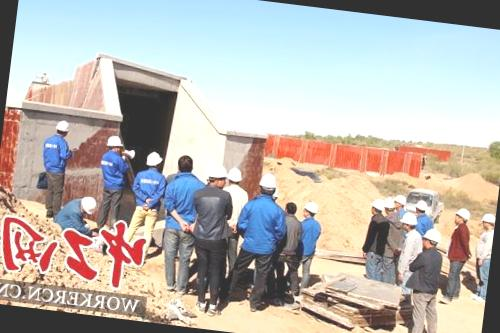no_helmet: (174, 151, 198, 176), (282, 198, 299, 220)
